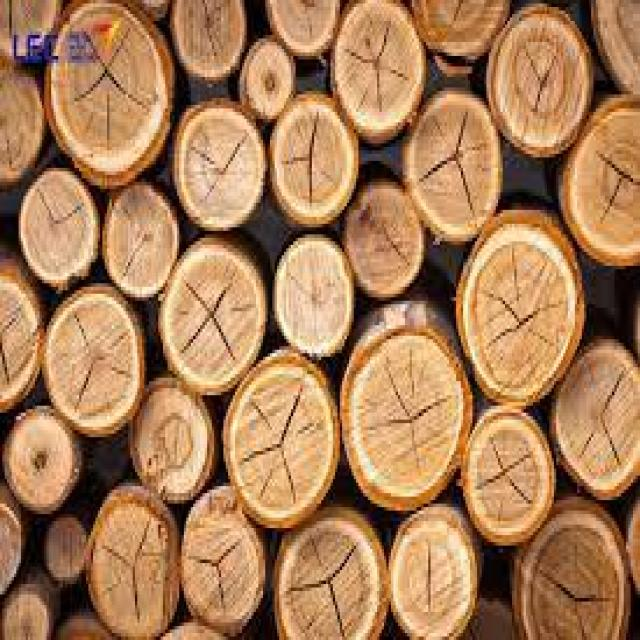Woods: (5, 67, 640, 640)
